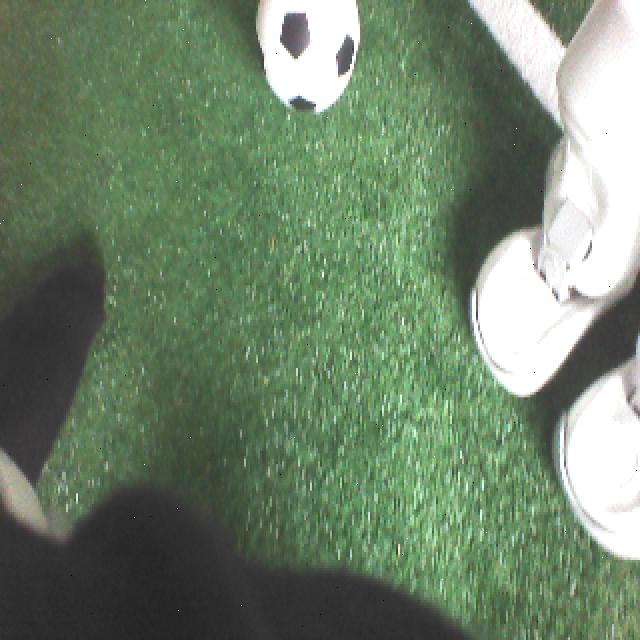ball: (248, 0, 364, 117)
